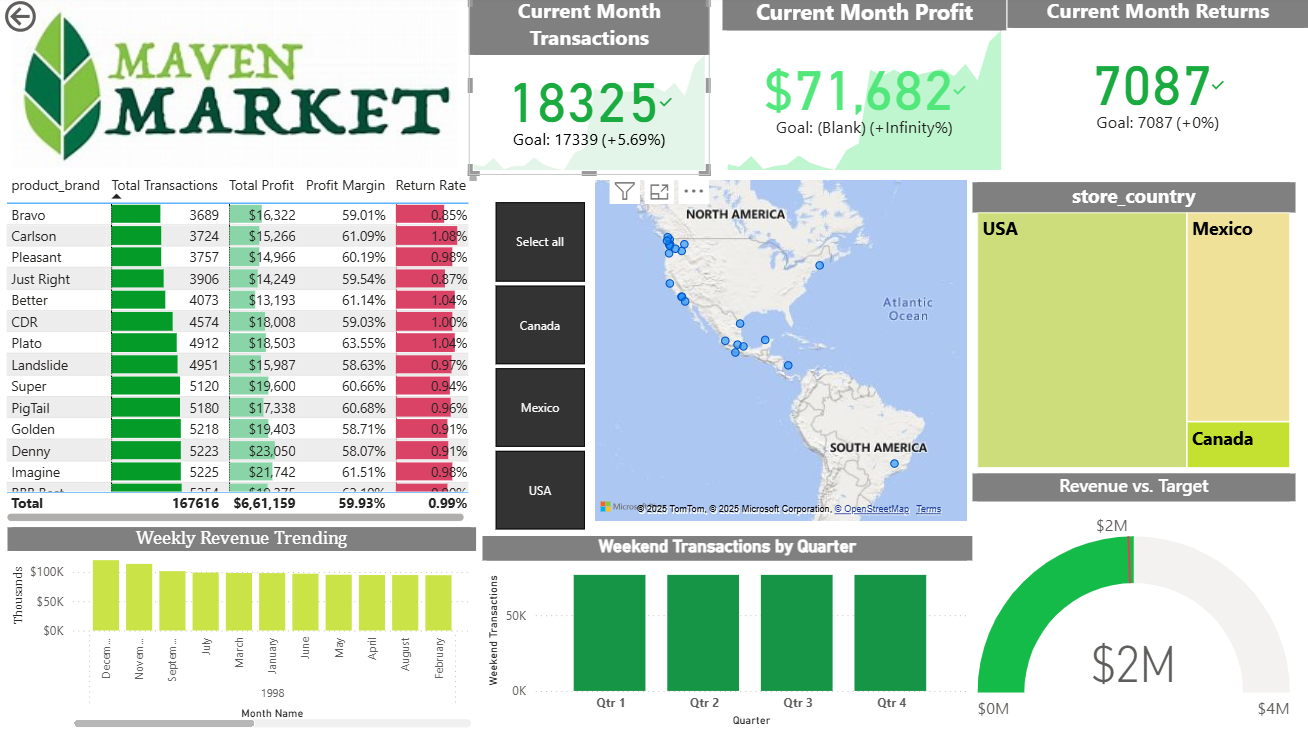

The page's visual inventory and layout, read from the dashboard file:
{"tool":"powerbi","page":{"name":"Topline Performance","canvas":[1280,720],"ordinal":0},"visuals":[{"type":"image","box":[0,0,458.4,175.3],"z":0},{"type":"tableEx","fields":{"Values":["Products.product_brand","calculate.Total Transactions","calculate.Total Profit","calculate.Profit Margin","calculate.Return Rate"]},"box":[0,168.6,472.2,350.8],"z":1000},{"type":"kpi","title":"Current Month Transactions","fields":{"Indicator":["calculate.Total Transactions"],"TrendLine":["Calendar.Start of Month"],"Goal":["calculate.Last Month Transactions"]},"box":[458.7,0,236.1,175.4],"z":2000},{"type":"kpi","title":"Current Month Profit ","fields":{"Indicator":["calculate.Total Profit"],"TrendLine":["Calendar.Start of Month"],"Goal":["calculate.Last Month Profit"]},"box":[706.9,0,277.9,175.4],"z":3000},{"type":"kpi","title":"Current Month Returns","fields":{"Indicator":["calculate.Total Returns"],"TrendLine":["Calendar.Start of Month"],"Goal":["calculate.Last Month Returns"]},"box":[986.1,0,294.4,168.1],"z":4000},{"type":"treemap","title":" store_country","fields":{"Values":["calculate.Total Transactions"],"Group":["Stores.store_country","Stores.store_city","Stores.store_state"]},"box":[951.1,182.1,315.7,284.7],"z":5000},{"type":"slicer","fields":{"Values":["Stores.store_country"]},"box":[458.7,180.8,137.6,348.1],"z":6000},{"type":"actionButton","box":[0,0,100,40],"z":7000},{"type":"gauge","title":"Revenue vs. Target","fields":{"TargetValue":["calculate.Revenue Target"],"Y":["calculate.Total Revenue"]},"box":[951.1,466.8,315.7,253.6],"z":8000},{"type":"clusteredColumnChart","title":"Weekly Revenue Trending","fields":{"Category":["Calendar.Year","Calendar.Month Name"],"Y":["calculate.Total Revenue"]},"box":[6.7,519.4,458.7,201],"z":9000},{"type":"map","fields":{"Category":["Stores.store_city"]},"box":[577.4,175.4,373.7,344],"z":10000},{"type":"clusteredColumnChart","fields":{"Y":["calculate.Weekend Transactions"],"Category":["calculate.Start of Month.Variation.Date Hierarchy.Quarter"]},"box":[472.2,528.8,478.9,191.6],"z":11000}]}

Visuals, with their boxes in screenshot pixels (x1, y1, x2, y2), scaled from the page's 1280x720 canvas onto the 1308x732 screenshot:
image: bbox=[0, 0, 468, 178]
tableEx - Products.product_brand x calculate.Total Transactions: bbox=[0, 171, 483, 528]
"Current Month Transactions" kpi: bbox=[469, 0, 710, 178]
"Current Month Profit " kpi: bbox=[722, 0, 1006, 178]
"Current Month Returns" kpi: bbox=[1008, 0, 1307, 171]
" store_country" treemap: bbox=[972, 185, 1295, 475]
slicer - Stores.store_country: bbox=[469, 184, 609, 538]
actionButton: bbox=[0, 0, 102, 41]
"Revenue vs. Target" gauge: bbox=[972, 475, 1295, 731]
"Weekly Revenue Trending" clusteredColumnChart: bbox=[7, 528, 476, 731]
map - Stores.store_city: bbox=[590, 178, 972, 528]
clusteredColumnChart - calculate.Weekend Transactions x calculate.Start of Month.Variation.Date Hierarchy.Quarter: bbox=[483, 538, 972, 731]
